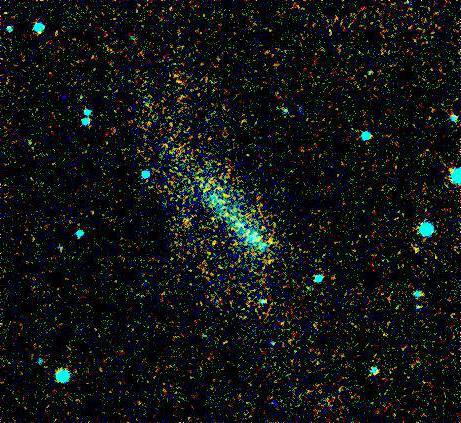star: (258, 221, 288, 251)
